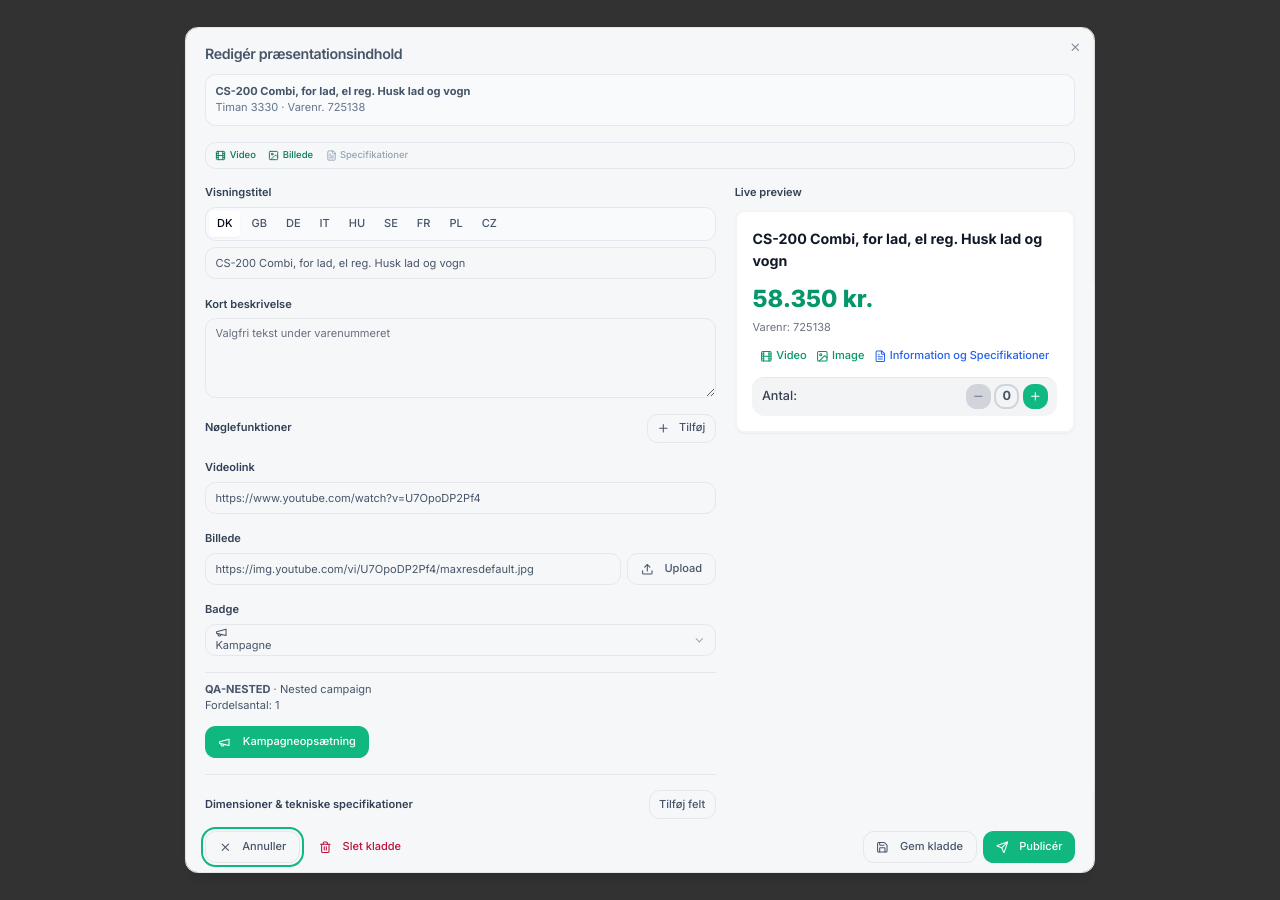
Test: nested Marketing publish flow › cancels each editor at its own level without publishing
Later steps or results of the test are not shown.
Step 1. Replace the text in the field named "Visningstitel Dansk" with "Draft bevares" → coordinates (460, 263), box x1=205 y1=247 x2=716 y2=279
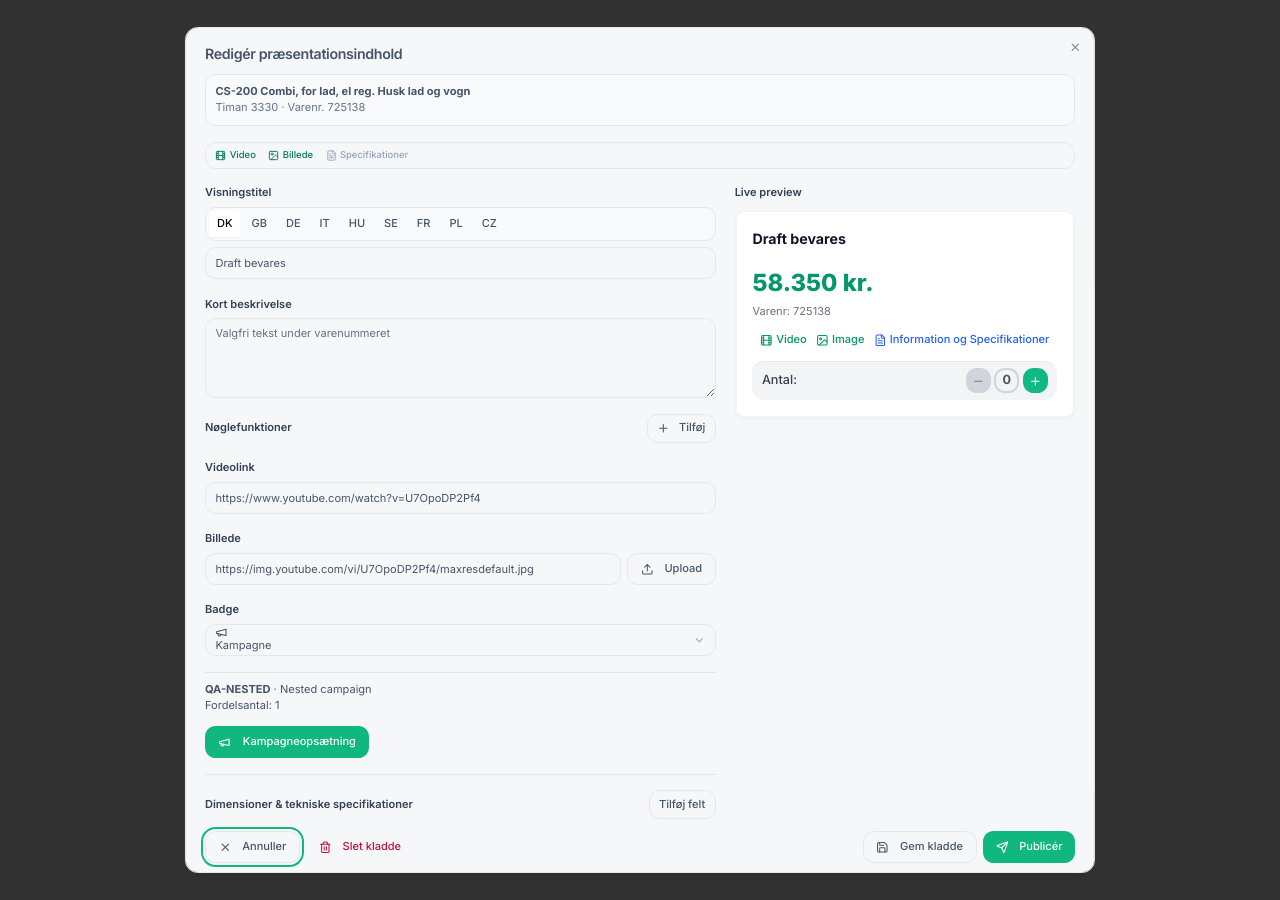
Step 2. Click the button "Kampagneopsætning" → coordinates (287, 742), box x1=205 y1=726 x2=368 y2=758
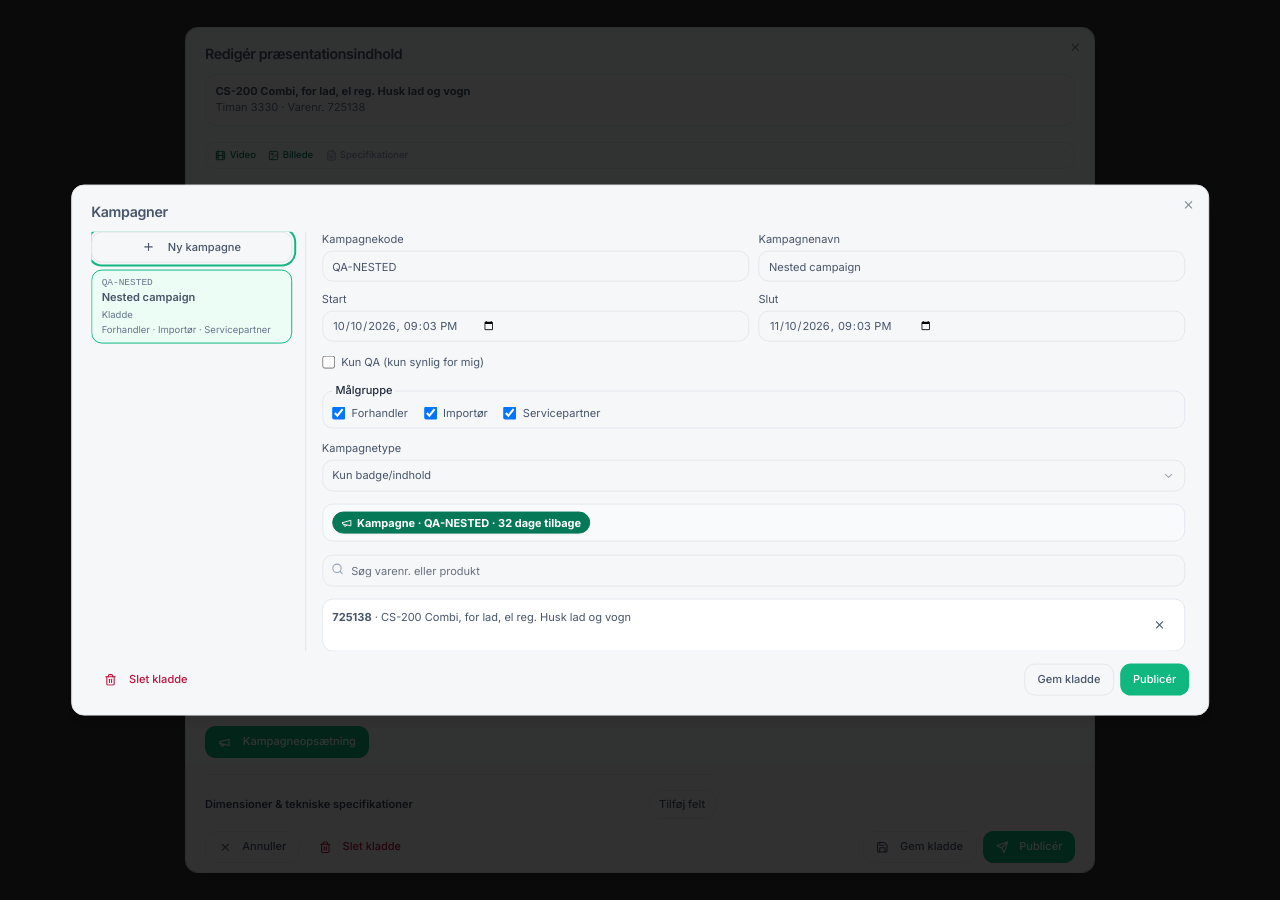
Expected: the field labelled "Kampagnenavn" is shown, x1=758 y1=250 x2=1186 y2=282
Step 3. Click the button named "Close" → coordinates (1189, 204), box x1=1182 y1=198 x2=1195 y2=211
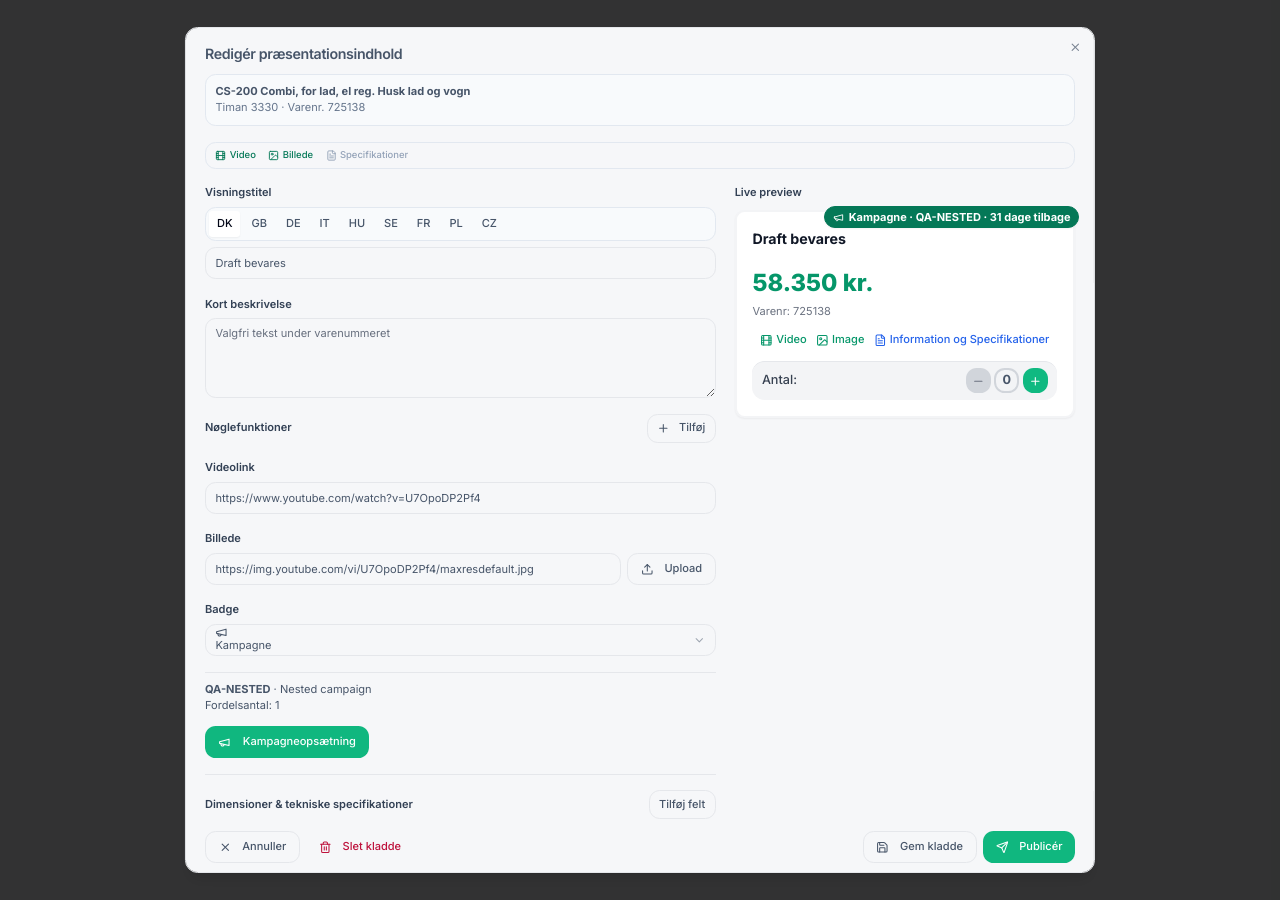
Expected: the text labelled "Kampagnenavn" is gone
